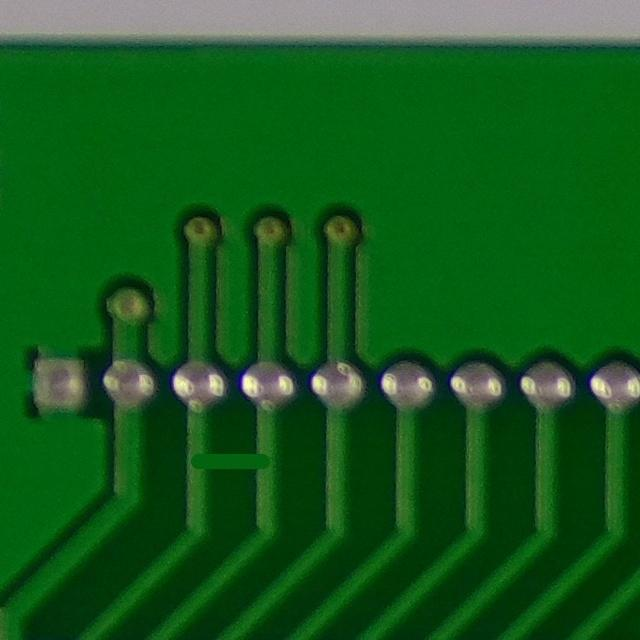short: (175, 433, 282, 490)
